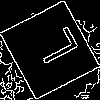L: (25, 25, 80, 72)
